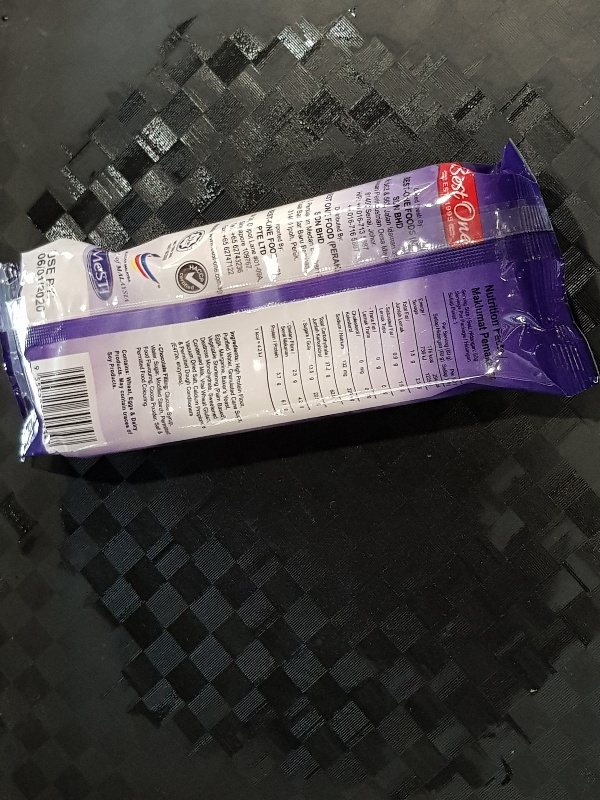Tinges Roll Chocolate: (1, 137, 600, 466)
